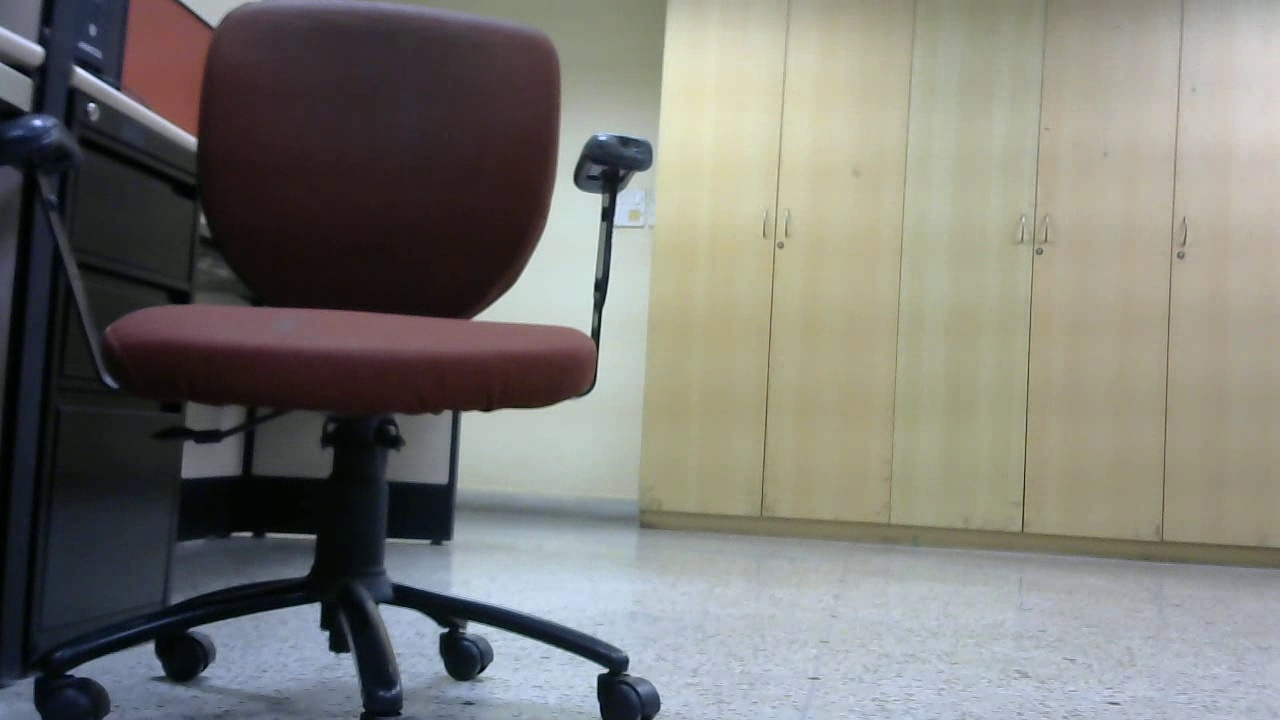chair: (14, 6, 665, 720)
